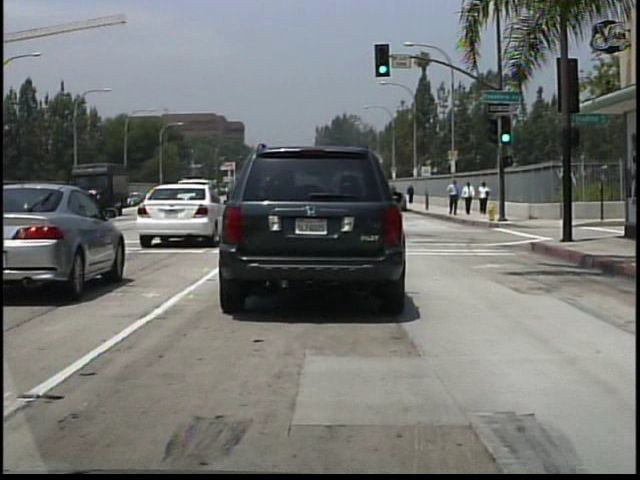person: (447, 178, 461, 218), (477, 181, 491, 216), (462, 180, 476, 215), (406, 183, 416, 205)
